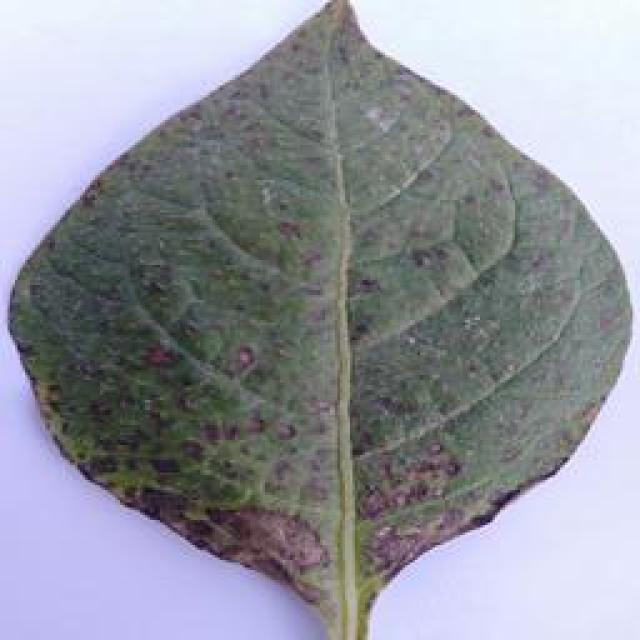Potato_Early_Blight: (10, 0, 638, 640)
